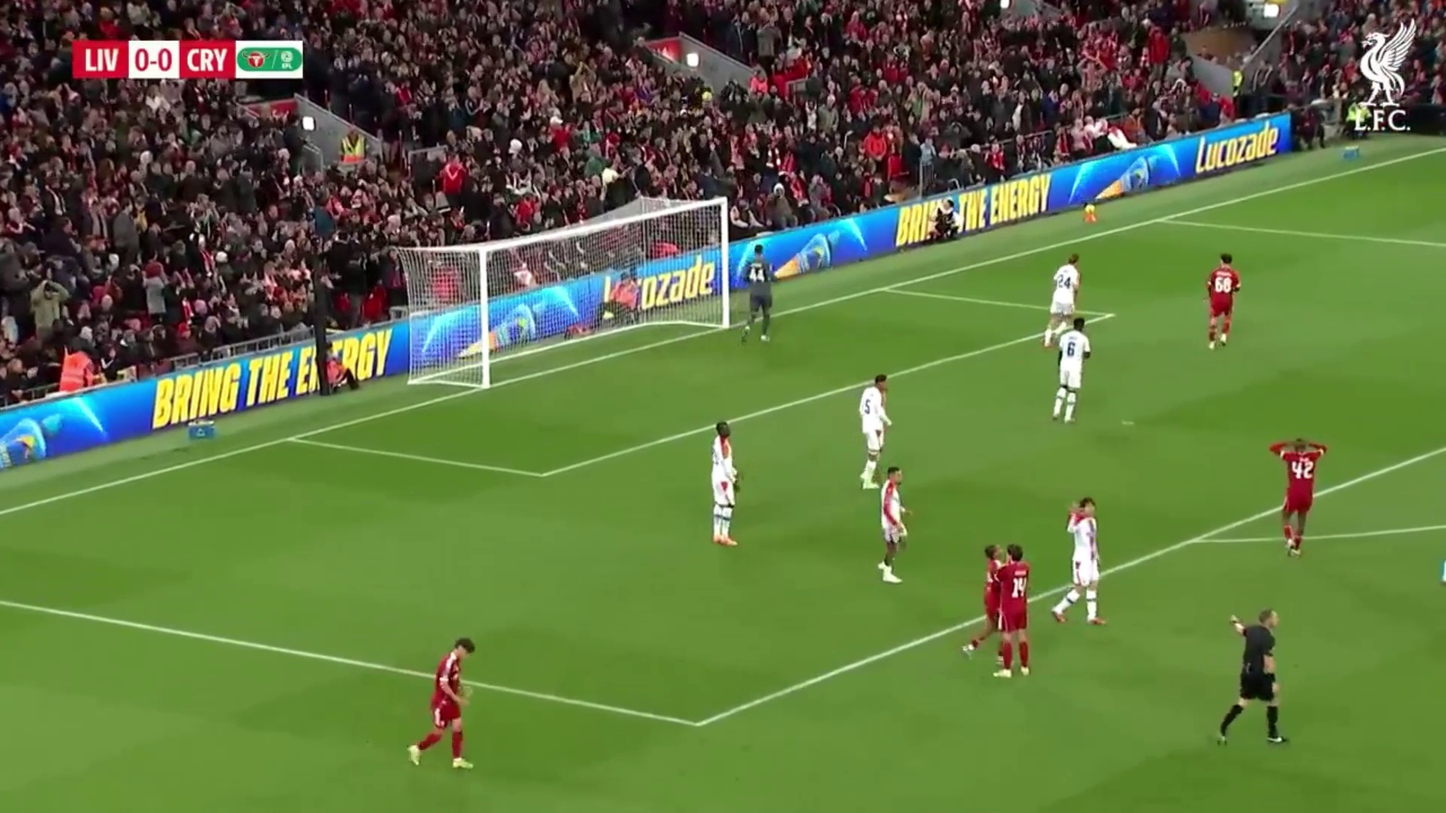player: (1215, 609, 1289, 748), (409, 637, 476, 771), (1266, 438, 1330, 554), (1052, 496, 1106, 630), (986, 542, 1031, 680), (1048, 314, 1090, 424), (859, 372, 895, 484), (1042, 256, 1083, 352), (876, 467, 909, 584), (711, 422, 740, 548), (1204, 253, 1240, 349), (741, 254, 774, 344), (981, 544, 1006, 655)
